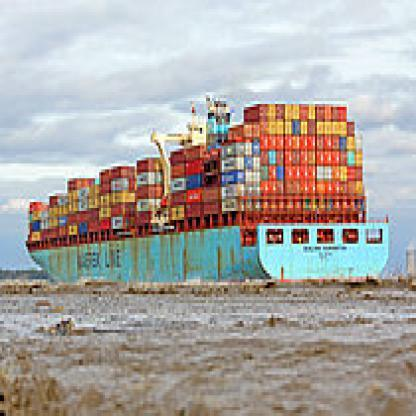Container Ship: (24, 92, 390, 288)
